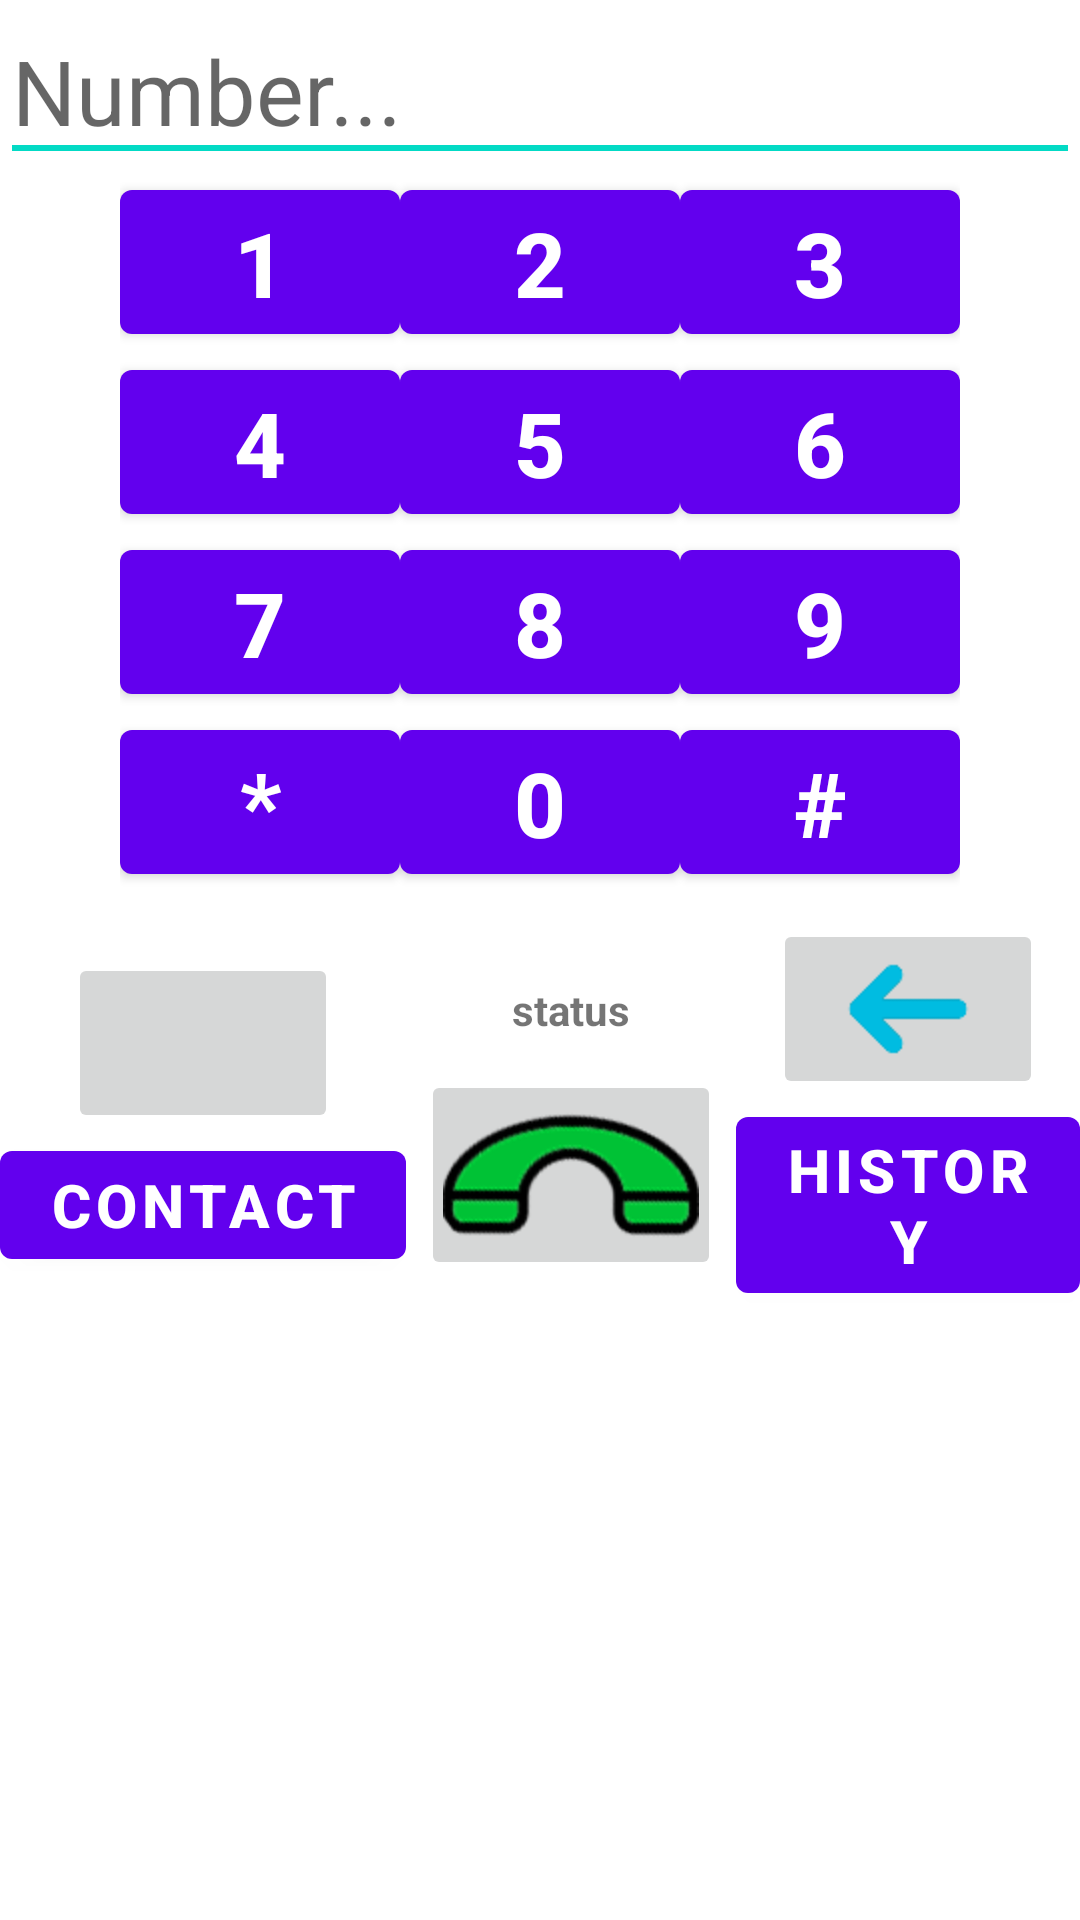

Icon click points for this 1080 x 1920 phone screenshot, format (x,y):
bspace: (908,1009)
telep: (571,1175)
